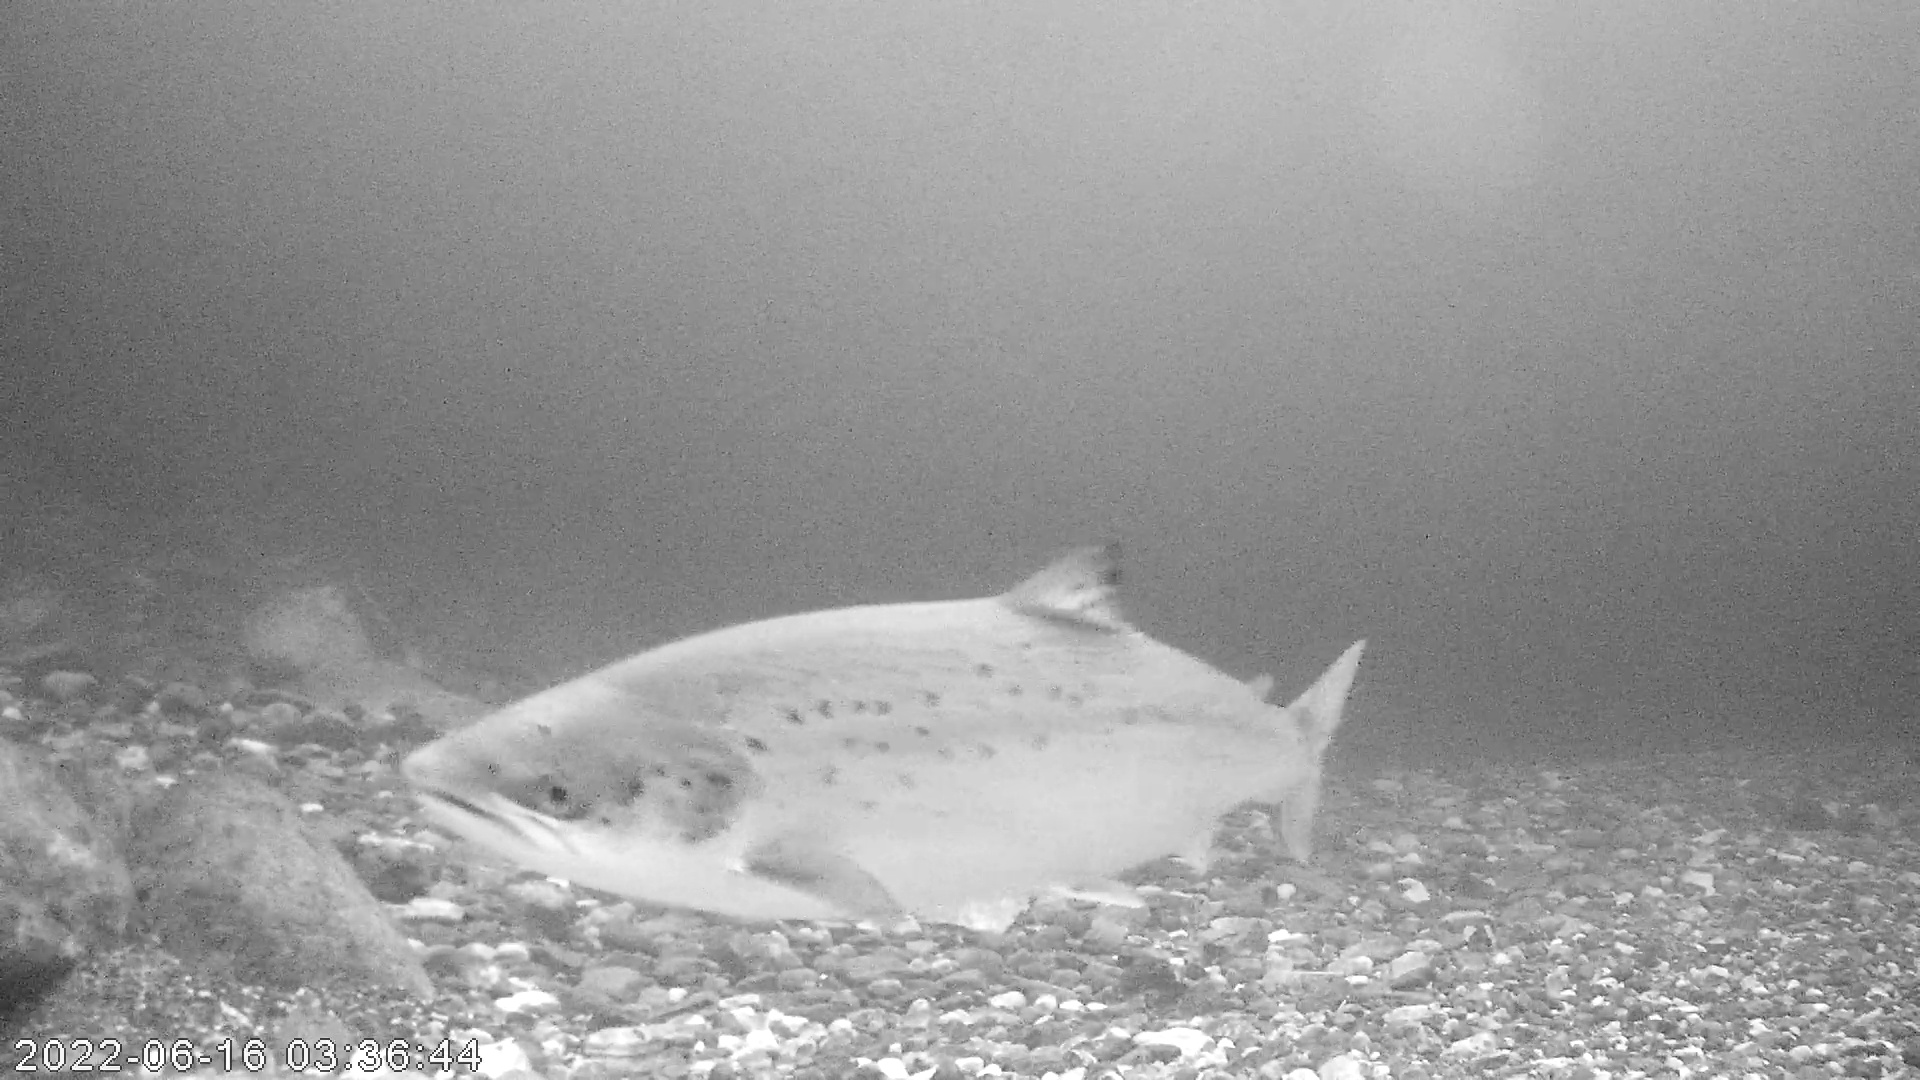salmon: (401, 541, 1366, 931)
